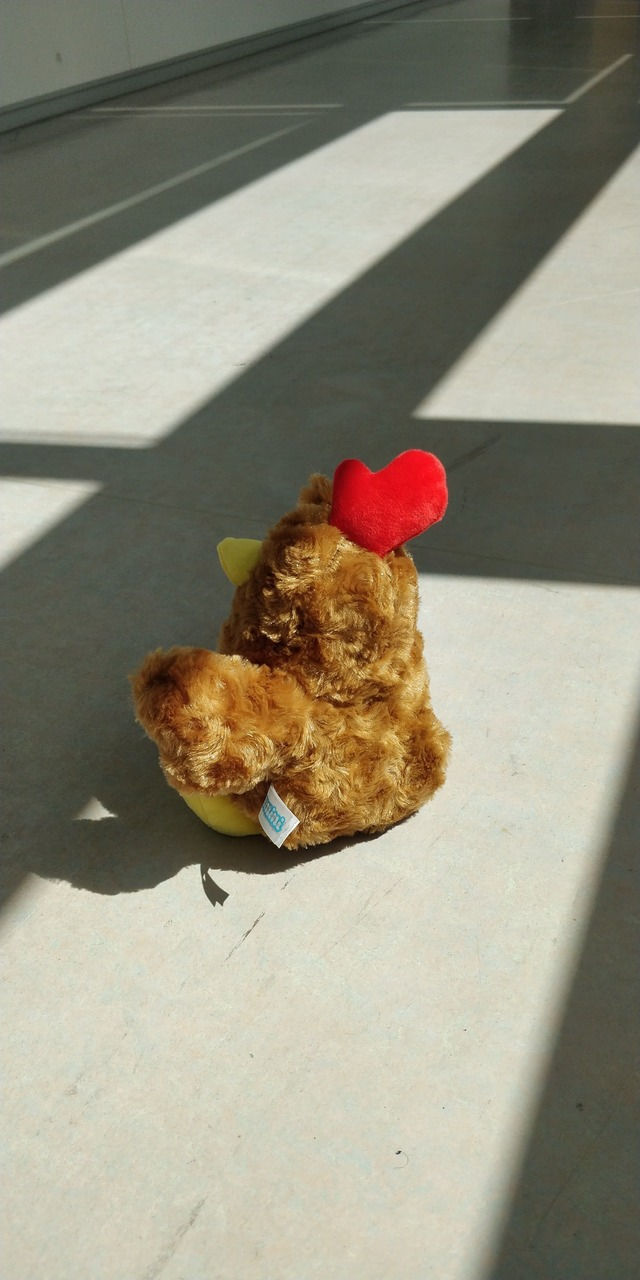fakeChicken: (128, 449, 449, 851)
